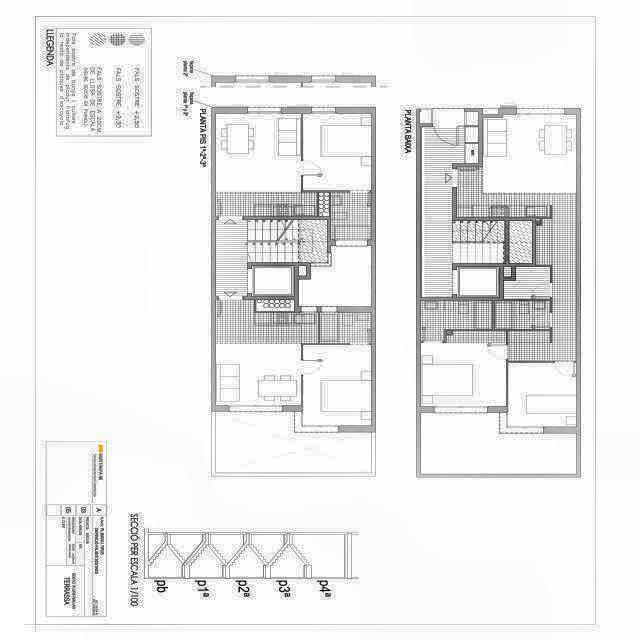room: (457, 115, 577, 361), (421, 127, 499, 297), (216, 114, 329, 217), (215, 300, 318, 405), (421, 413, 576, 474), (421, 331, 506, 406), (216, 220, 294, 296), (303, 345, 372, 426), (303, 114, 372, 190), (508, 363, 576, 427), (299, 246, 371, 306), (421, 300, 493, 342), (331, 192, 371, 239), (495, 301, 550, 329), (320, 313, 371, 343), (503, 267, 550, 299)
